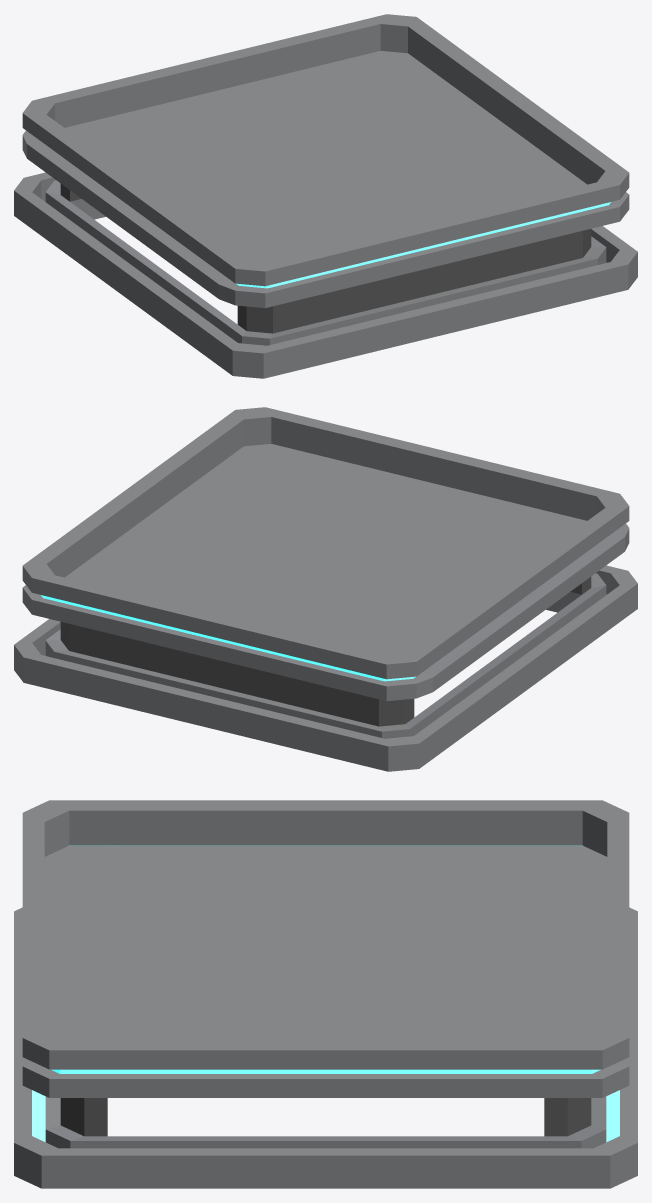
File: Table.fbx
3 views of the same model, one above another, from view 1: azimuth 30°, elevation 25°; view 2: azimuth 150°, elevation 25°; view 3: azimuth 270°, elevation 25° (orthographic). The views are drawn at different scales.
Parts seen in each view (by area): view 1: Table; view 2: Table; view 3: Table.
Part boxes in pixels (x1,y1,x2,y2): Table: (14,14,637,378); Table: (14,407,637,771); Table: (14,800,637,1188).
Size of the model in its own units: 399 by 97.32 by 408.
Materials: 1 (1 with a texture image).
